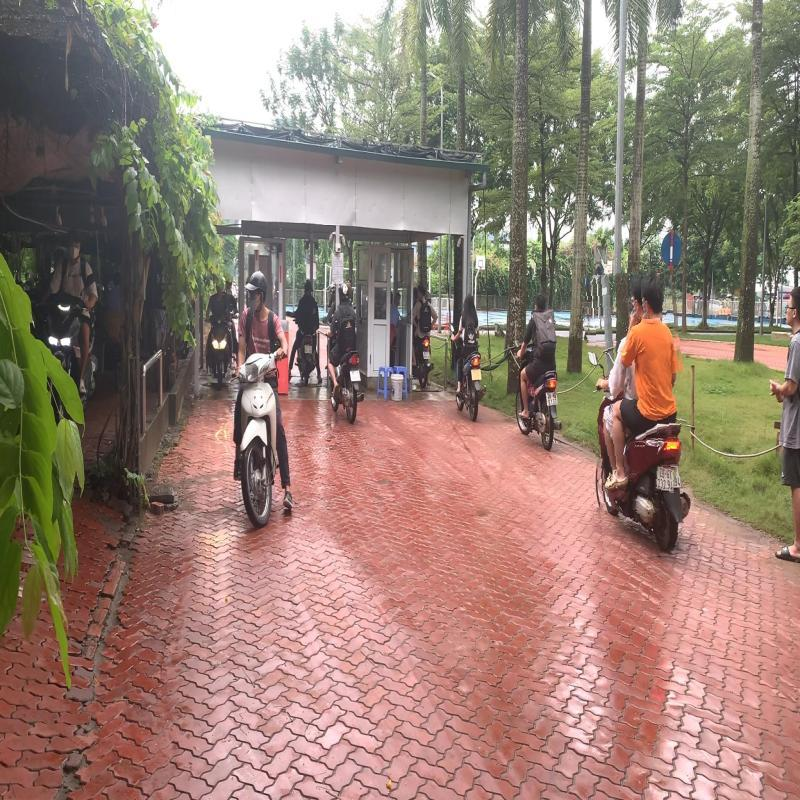licenseplate: (656, 466, 676, 492)
motorcyclist: (586, 270, 692, 559)
nohelmet: (641, 274, 667, 319)
